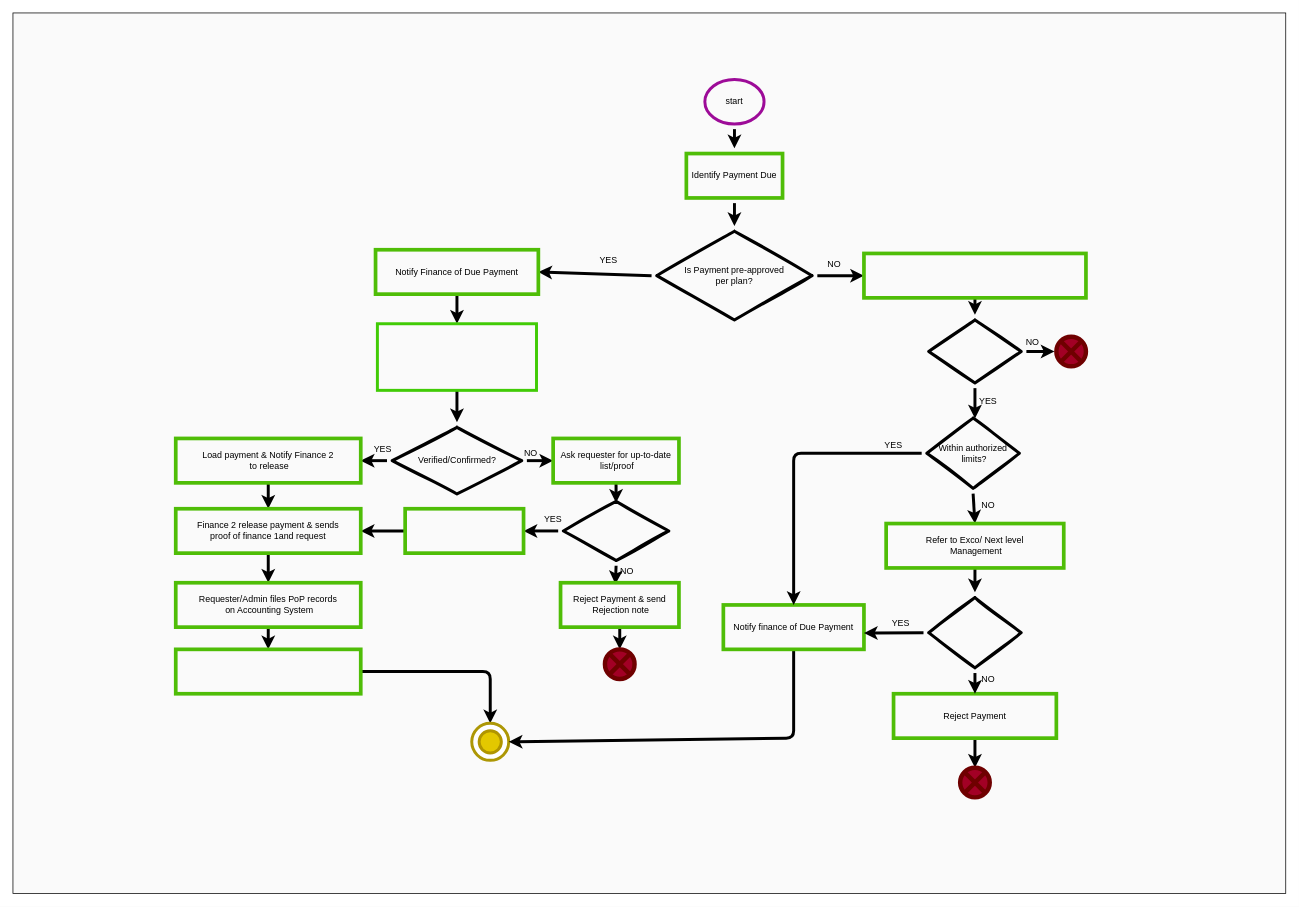
This 1299x907 diagram has some shape labels left out. The shapes that lost their labels are listed below. From the top down, each one's box as (x1, y1, x2, y2) in pixels, then its label:
(862, 251, 1087, 299): Prepare motivation for payment & supmit to line manager
(376, 322, 538, 391): Finance 1 verifies payment against pre-pproved list
(927, 318, 1022, 384): Line Manager approves?
(403, 507, 525, 555): Load payments & notify Finance 2 to release
(562, 500, 670, 562): Proof supplied
(927, 596, 1022, 669): High level approval given?
(174, 647, 362, 695): Send Pop to External Supplier with statement
